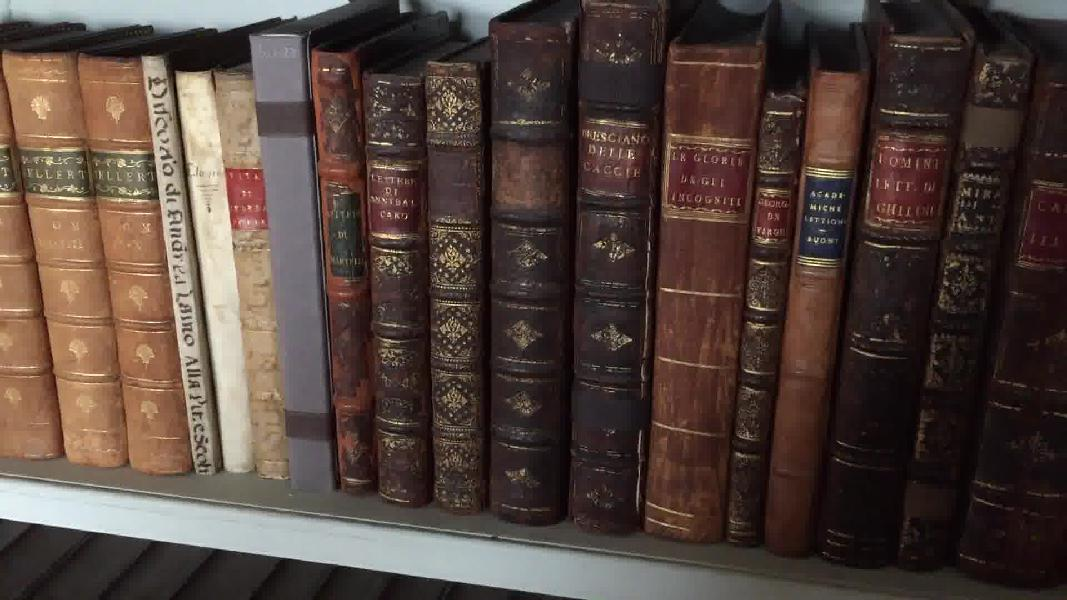Aa6-24: (131, 46, 225, 479)
Aa6-25: (169, 55, 255, 484)
Aa6-26: (206, 59, 288, 485)
Aa6-27: (232, 20, 342, 497)
Aa6-28: (297, 32, 374, 494)
Aa6-29: (355, 63, 428, 502)
Aa6-30: (416, 43, 492, 517)
Aa6-31: (485, 7, 570, 532)
Aa6-32: (573, 1, 662, 543)
Aa6-33: (650, 25, 752, 542)
Aa6-34: (716, 58, 801, 551)
Aa6-35: (767, 27, 856, 547)
Aa6-36: (820, 4, 951, 579)
Aa6-37: (906, 2, 1012, 575)
